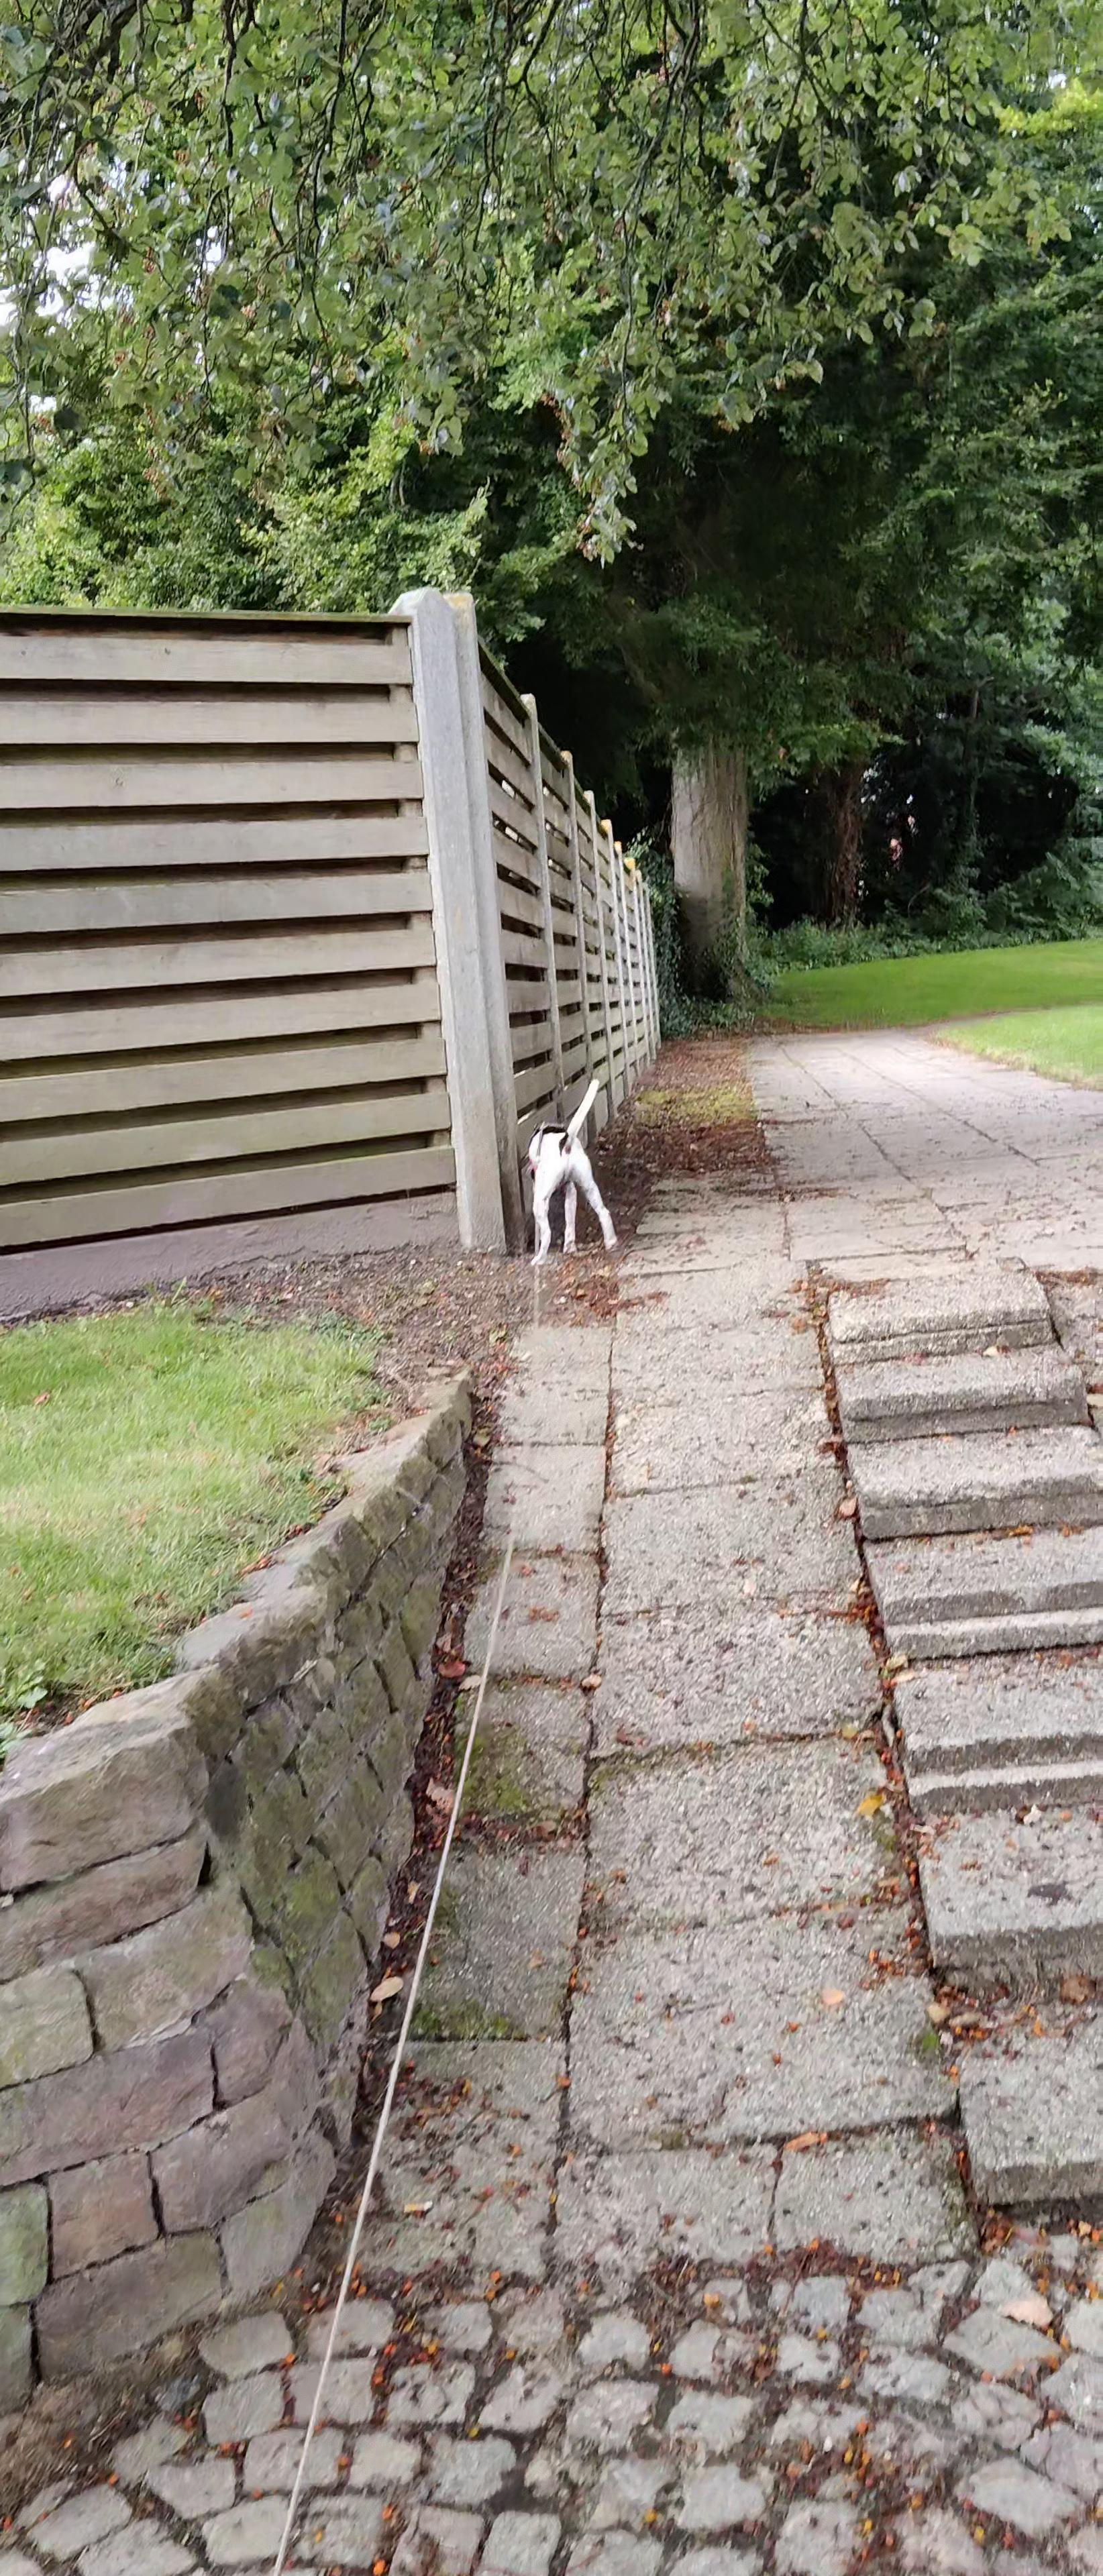Dog: (513, 1076, 636, 1270)
